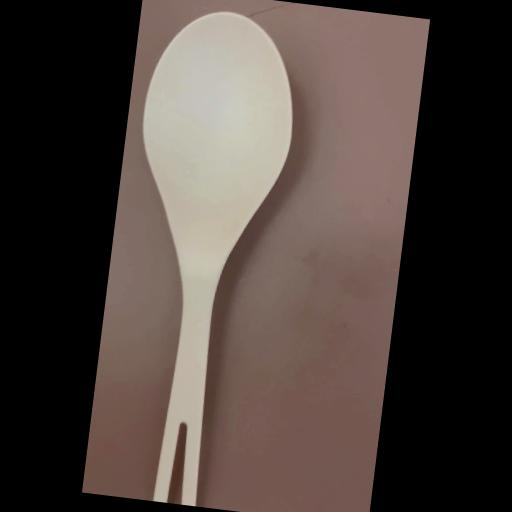utensil: (94, 0, 312, 512)
